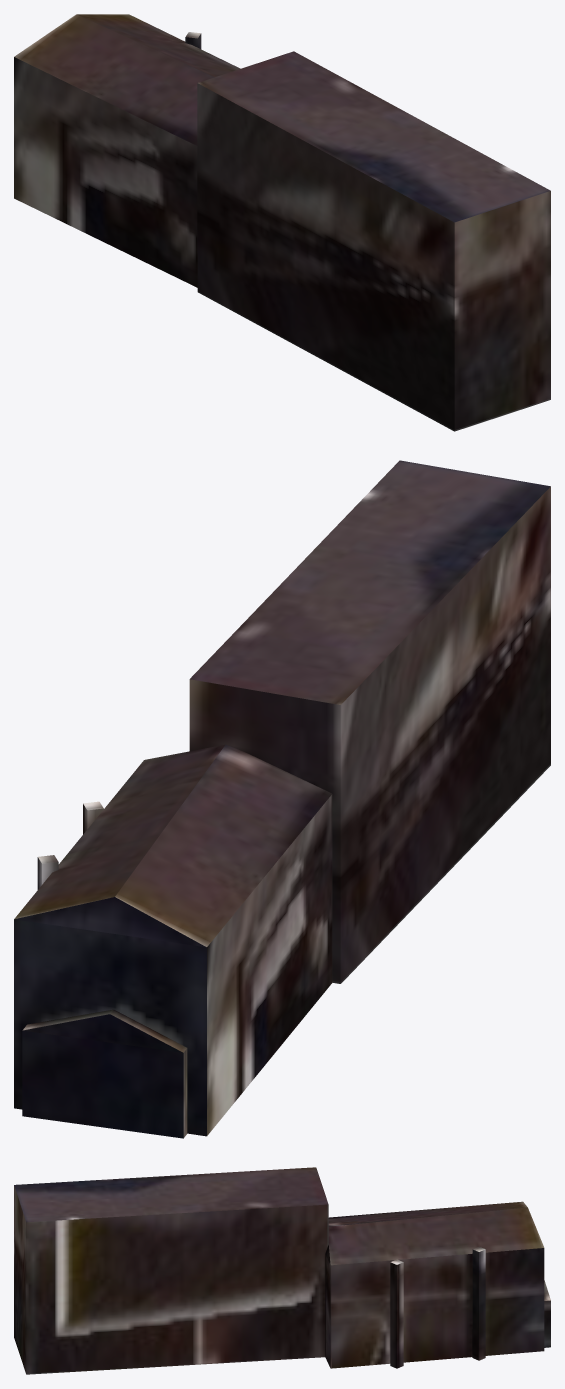
File: 01100-bldg-304576.glb
The picture shows the model from 3 angles, top to bottom: view 1: azimuth 30°, elevation 25°; view 2: azimuth 150°, elevation 25°; view 3: azimuth 270°, elevation 25°; orthographic projection. The views are drawn at different scales.
Visible parts, largest first — view 1: model; view 2: model; view 3: model.
Part boxes in pixels (left/top/right/bottom): model: left=14, top=14, right=550, bottom=431; model: left=14, top=460, right=550, bottom=1138; model: left=14, top=1167, right=550, bottom=1374.
Size of the model in its own units: 8.77 by 8.93 by 28.5.
Materials: 2 (1 with a texture image).
